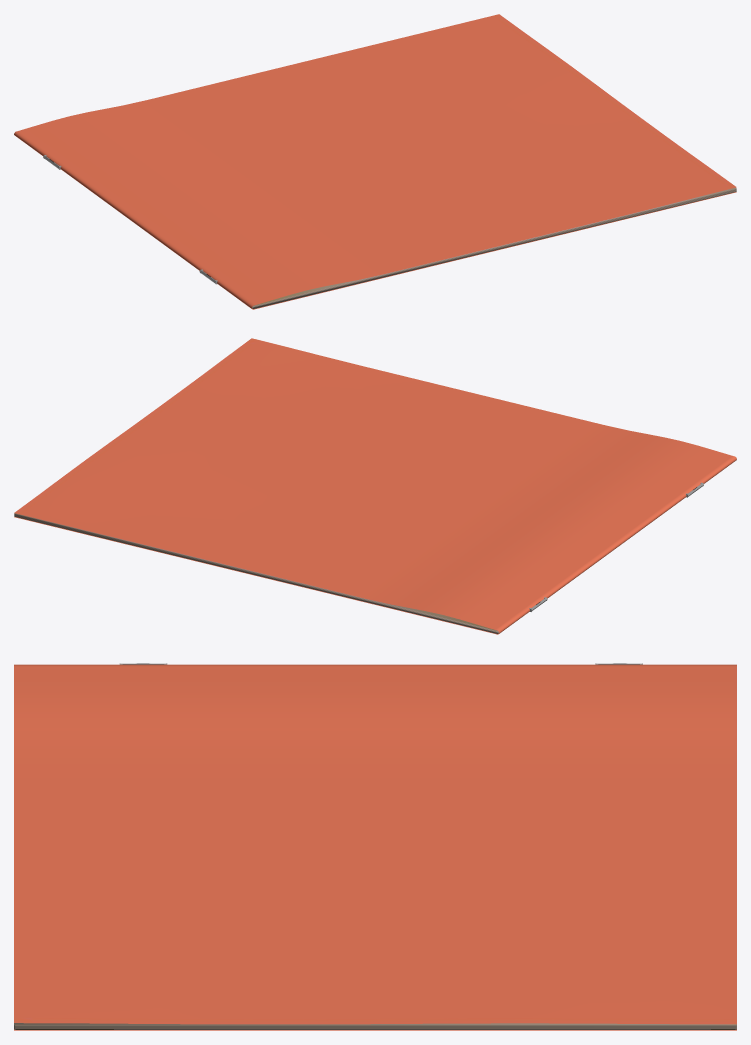
The model's file is booklet.glb.
3 views of the same model, one above another, from view 1: azimuth 30°, elevation 25°; view 2: azimuth 150°, elevation 25°; view 3: azimuth 270°, elevation 25° (orthographic). The views are drawn at different scales.
Visible parts, largest first — view 1: booklet_export; view 2: booklet_export; view 3: booklet_export.
Boxes of the visible parts, x1=… form: booklet_export: x1=14, y1=14, x2=736, y2=309; booklet_export: x1=14, y1=338, x2=736, y2=634; booklet_export: x1=14, y1=663, x2=736, y2=1030.
Size of the model in its own units: 0.4924 by 0.00661 by 0.4162.
Materials: 1 (1 with a texture image).
